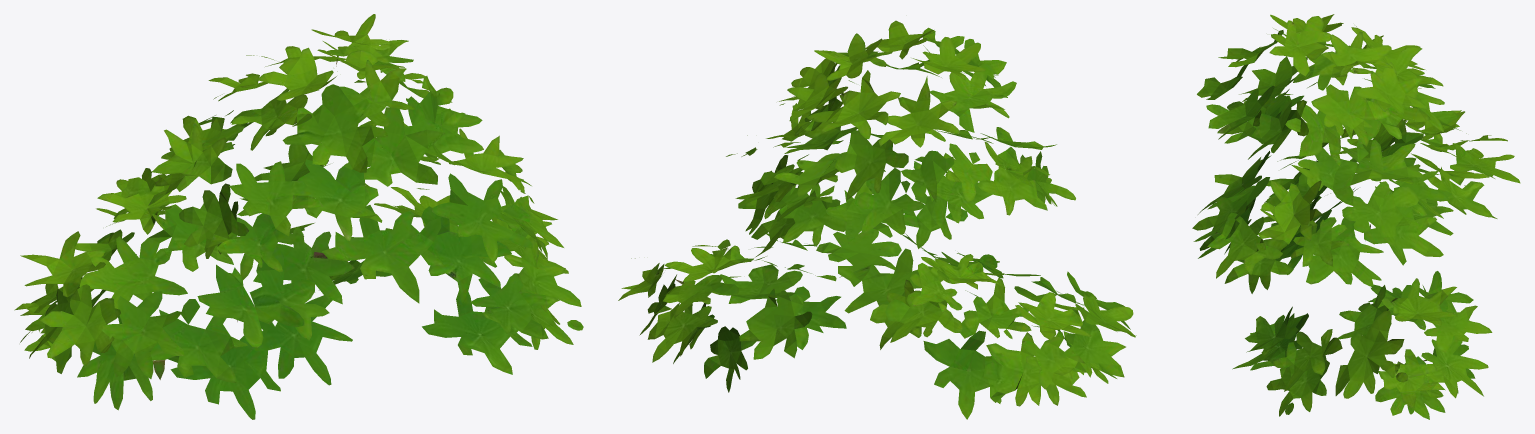
File: leaf_su.glb
3 renders of one model, left to right at view 1: azimuth 30°, elevation 25°; view 2: azimuth 150°, elevation 25°; view 3: azimuth 270°, elevation 25°, orthographic. The views are drawn at different scales.
Visible parts, largest first — view 1: geometry_0; view 2: geometry_0; view 3: geometry_0.
Boxes of the visible parts, x1,y1,x2,y2 form: geometry_0: (14, 14, 583, 419); geometry_0: (618, 20, 1136, 419); geometry_0: (1192, 14, 1520, 419).
Size of the model in its own units: 0.4008 by 0.2453 by 0.2455.
Materials: 1 (1 with a texture image).
